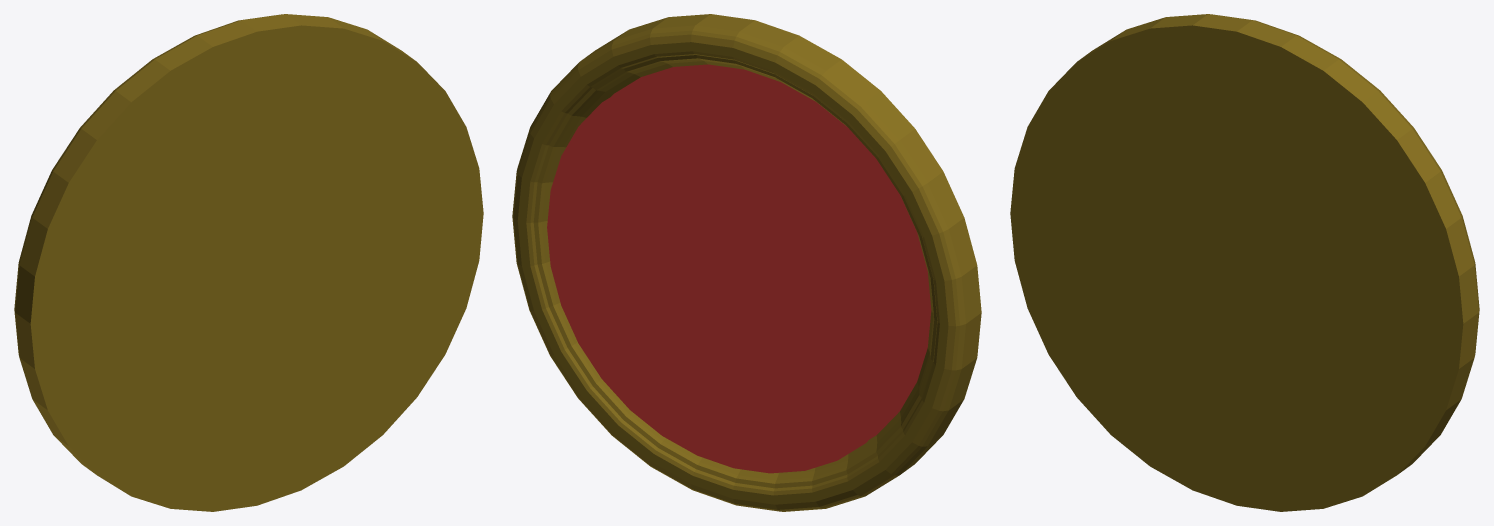
File: redondo.fbx
The picture shows the model from 3 angles, left to right: view 1: azimuth 30°, elevation 25°; view 2: azimuth 150°, elevation 25°; view 3: azimuth 330°, elevation 25°; orthographic projection.
Parts seen in each view (by area): view 1: Cuadro_redondo; view 2: Cuadro_redondo.001, Cuadro_redondo; view 3: Cuadro_redondo.
Part boxes in pixels (box(x1,y1,x2,y2)): Cuadro_redondo: box(14, 14, 483, 511); Cuadro_redondo.001: box(547, 72, 920, 473); Cuadro_redondo: box(512, 14, 981, 511); Cuadro_redondo: box(1010, 14, 1479, 511).
Size of the model in its own units: 200 by 200 by 16.85.
